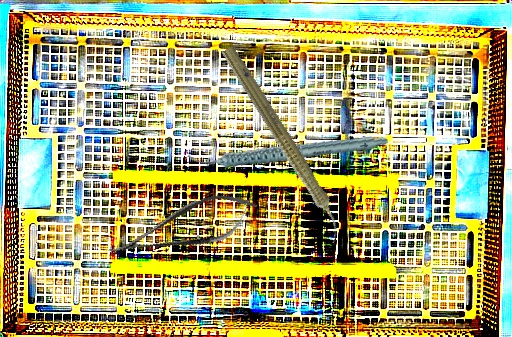Handpiece: (213, 43, 354, 245), (186, 111, 389, 188)
Micro Scissor: (101, 183, 265, 273)
